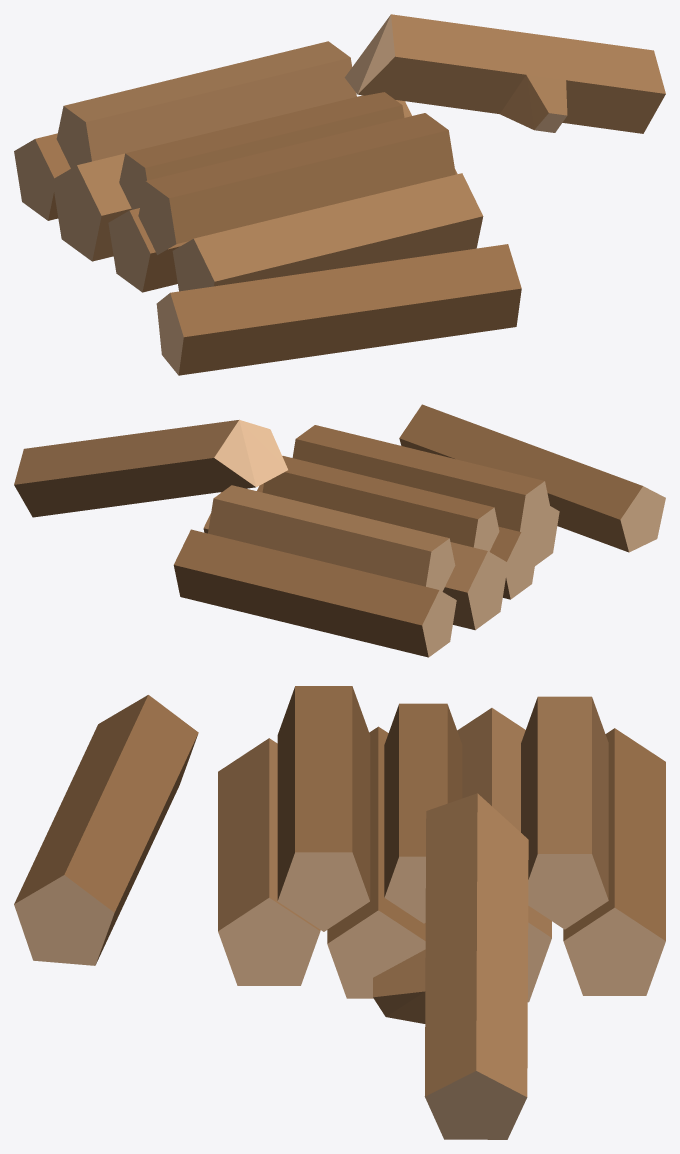
The model's file is Pine_Firewood_Pile_02.fbx.
3 renders of one model, top to bottom at view 1: azimuth 30°, elevation 25°; view 2: azimuth 150°, elevation 25°; view 3: azimuth 270°, elevation 25°, orthographic. The views are drawn at different scales.
Visible parts, largest first — view 1: Pine_Firewood_Pile_02; view 2: Pine_Firewood_Pile_02; view 3: Pine_Firewood_Pile_02.
Boxes of the visible parts, x1=… form: Pine_Firewood_Pile_02: x1=14, y1=14, x2=665, y2=375; Pine_Firewood_Pile_02: x1=14, y1=404, x2=665, y2=657; Pine_Firewood_Pile_02: x1=14, y1=686, x2=665, y2=1139.
Size of the model in its own units: 113 by 29.1 by 83.97.
